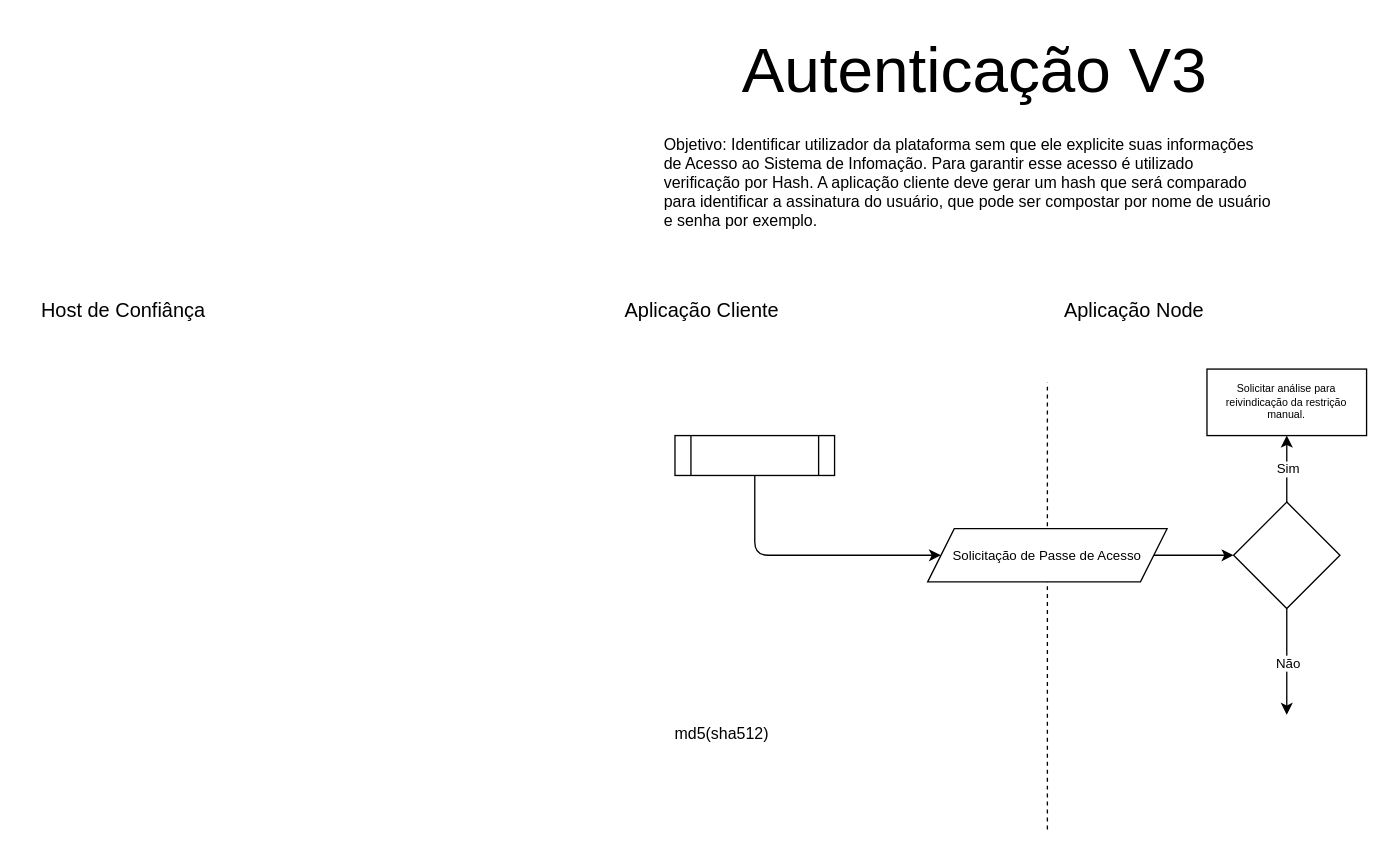
Some shapes in this 1390 by 854 pixel diagram are drawn without their labels. Each missing label, with the centre of its shape:
"Indentificação" belongs at (754,454).
"Possui Restrição?" belongs at (1286,554).
